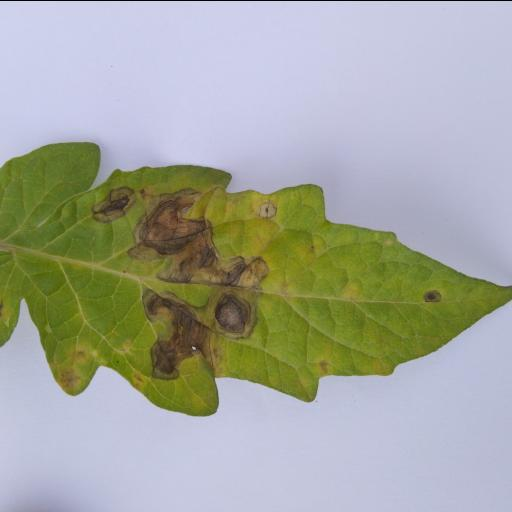Early Blight: (0, 140, 512, 418)
